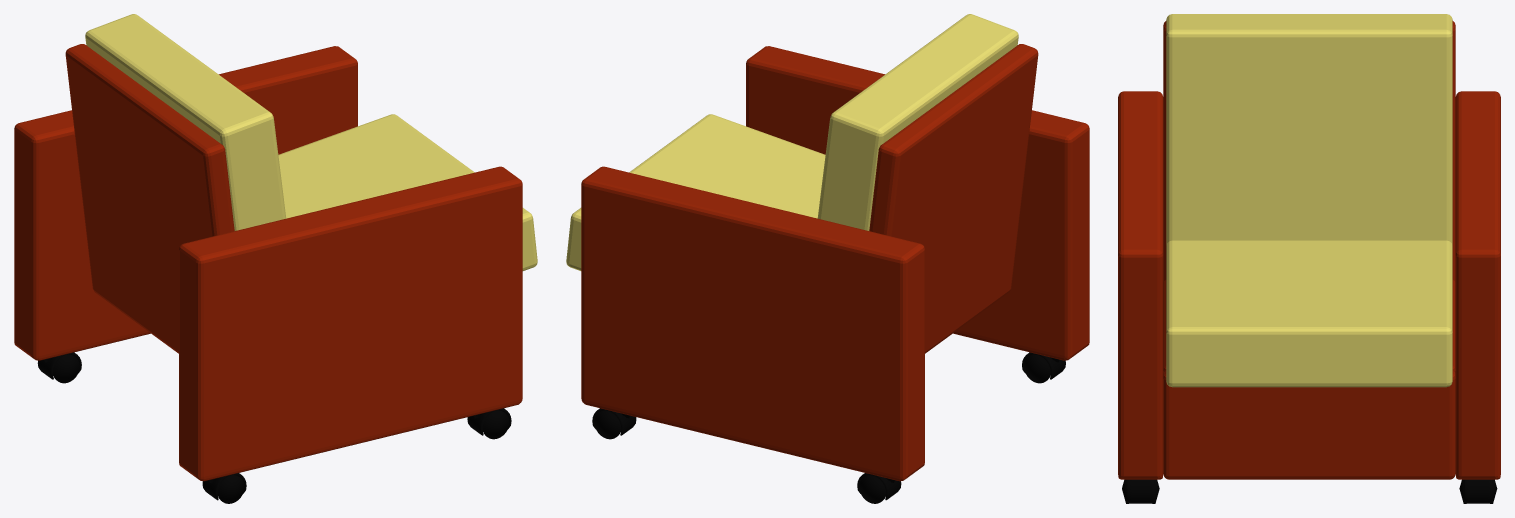
File: armchair.dae
The picture shows the model from 3 angles, left to right: view 1: azimuth 30°, elevation 25°; view 2: azimuth 150°, elevation 25°; view 3: azimuth 270°, elevation 25°; orthographic projection. The views are drawn at different scales.
Visible parts, largest first — view 1: Cube; view 2: Cube; view 3: Cube.
Boxes of the visible parts, x1,y1,x2,y2 form: Cube: (14,14,537,503); Cube: (566,14,1089,503); Cube: (1118,14,1500,503).
Bounding box in the file's own units: 0.7155 × 0.635 × 0.676.
